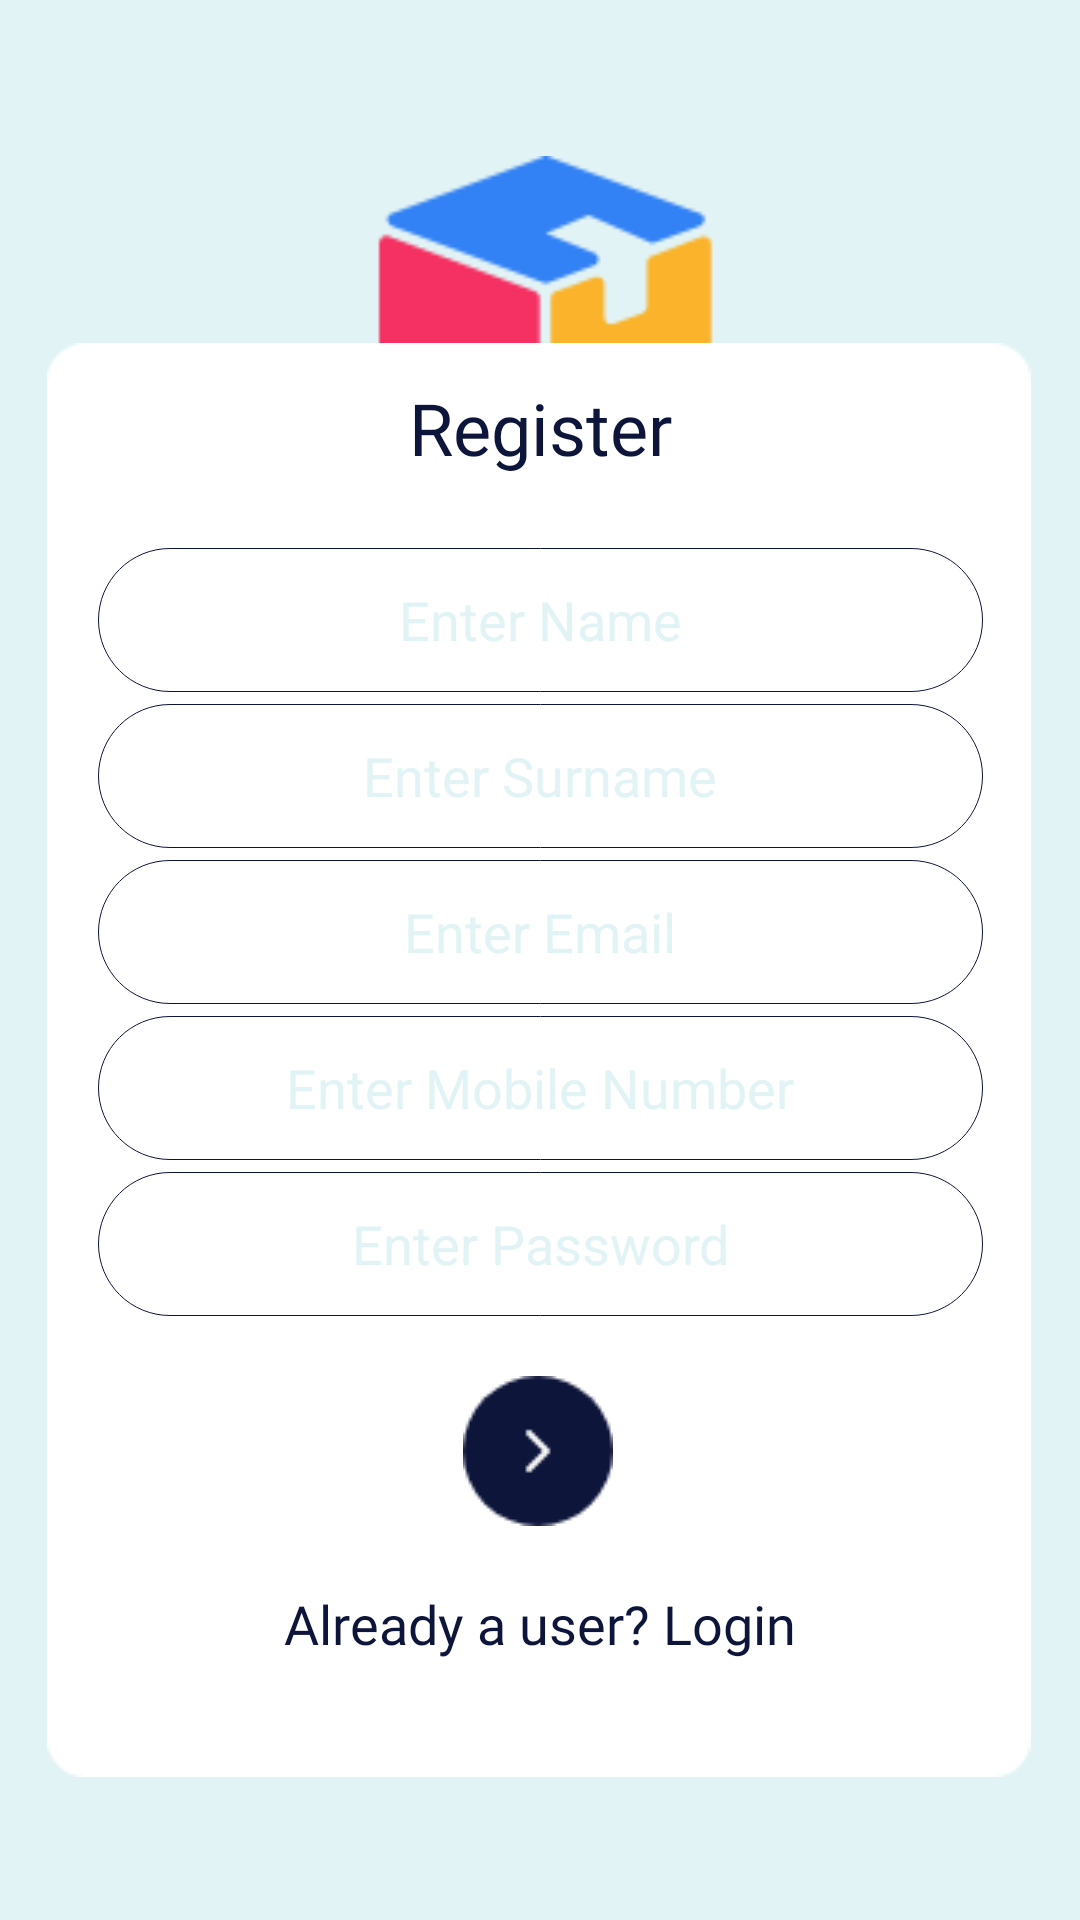

Where to tap for icons on this 1080×1920 app screen, as (x,y):
login but: (538,1451)
